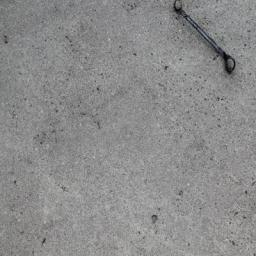FOD: (174, 1, 240, 75)
